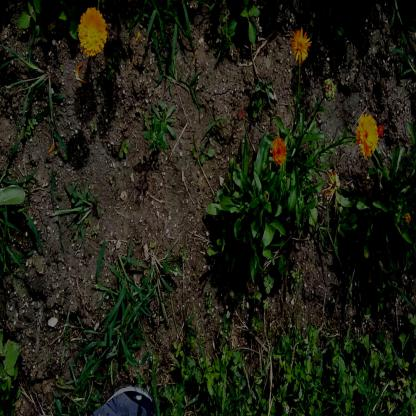marigold: (75, 9, 105, 54), (356, 109, 378, 154), (292, 28, 312, 61), (268, 134, 286, 166)
